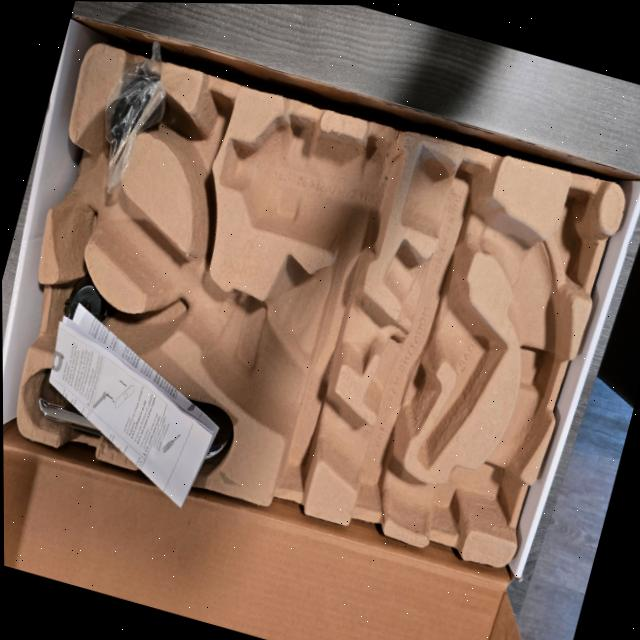1m: (52, 142, 568, 530)
2m: (381, 233, 506, 465)
3m: (220, 107, 405, 257)
4o: (41, 371, 233, 456)
5o: (60, 281, 107, 346)
6m: (167, 95, 233, 219)
7: (105, 43, 166, 193)
8: (45, 298, 219, 512)
